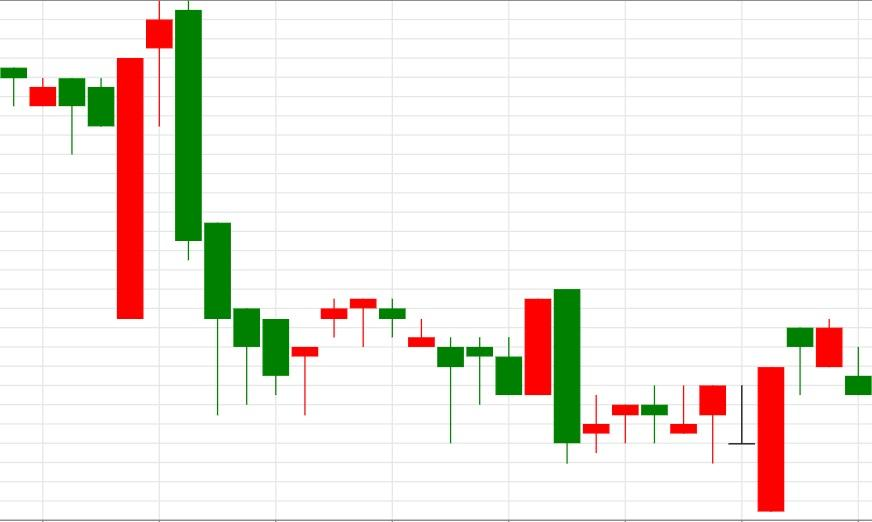bearish_engulfing_fall: (87, 0, 203, 319)
